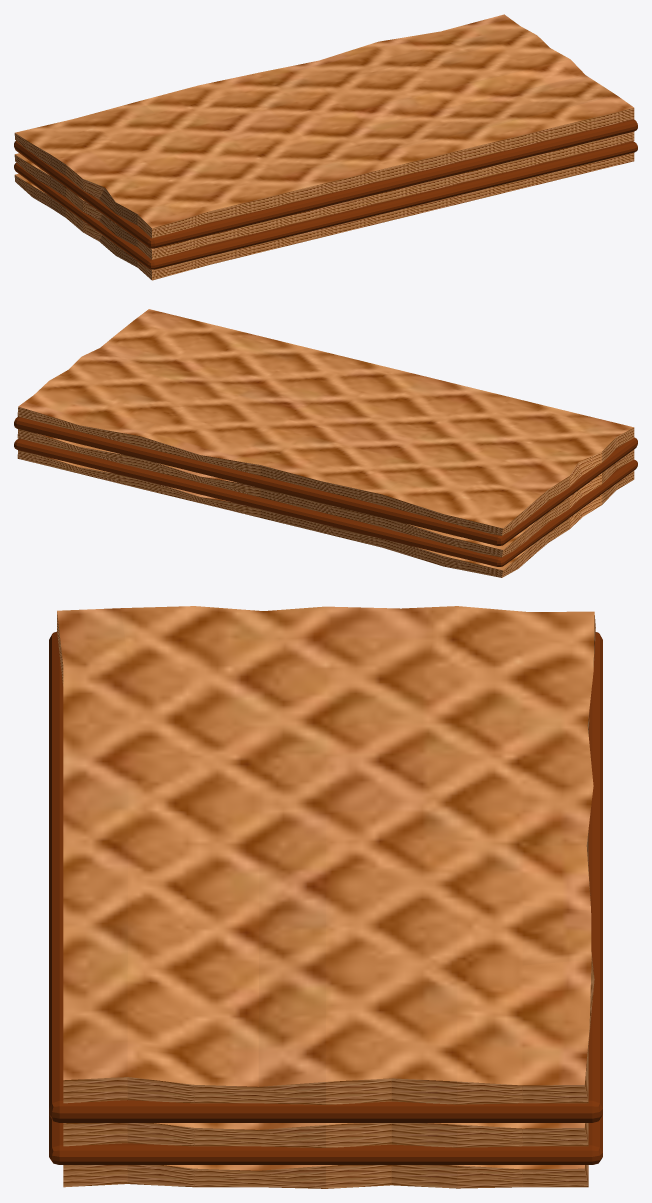
The model's file is wAFER.fbx.
The picture shows the model from 3 angles, top to bottom: view 1: azimuth 30°, elevation 25°; view 2: azimuth 150°, elevation 25°; view 3: azimuth 270°, elevation 25°; orthographic projection. The views are drawn at different scales.
Visible parts, largest first — view 1: Cube.008, Cube.009, Cube.010, Cube.011, Cube.012; view 2: Cube.008, Cube.009, Cube.010, Cube.011, Cube.012; view 3: Cube.008, Cube.009, Cube.011, Cube.012, Cube.010.
Boxes of the visible parts, x1,y1,x2,y2 form: Cube.008: (14, 14, 634, 238); Cube.009: (14, 119, 637, 248); Cube.010: (14, 141, 637, 269); Cube.011: (14, 131, 634, 259); Cube.012: (14, 152, 634, 280); Cube.008: (17, 309, 634, 535); Cube.009: (14, 417, 637, 545); Cube.010: (14, 438, 637, 566); Cube.011: (17, 429, 634, 557); Cube.012: (17, 450, 634, 577); Cube.008: (57, 606, 595, 1104); Cube.009: (49, 631, 602, 1122); Cube.011: (63, 1123, 588, 1147); Cube.012: (63, 1165, 588, 1188); Cube.010: (49, 1114, 602, 1164).
Bounding box in the file's own units: 858 × 97.15 × 420.
Materials: 2 (1 with a texture image).
